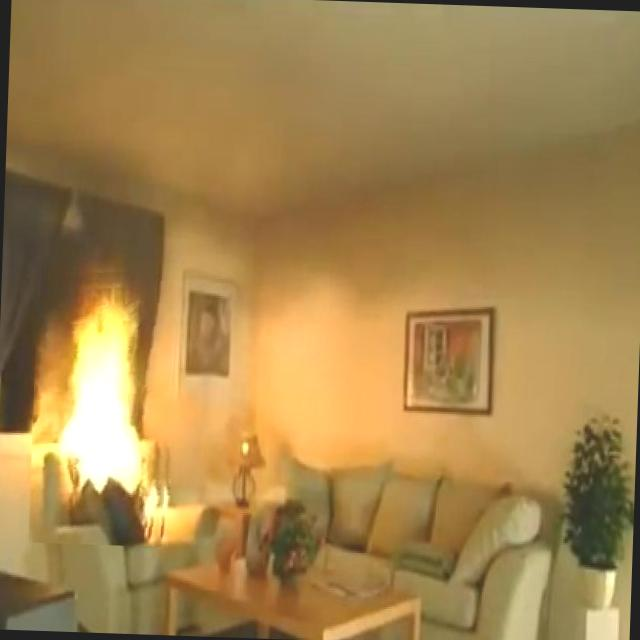fire: (45, 289, 148, 500)
